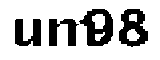8: (120, 6, 150, 48)
9: (82, 5, 114, 52)
m: (46, 17, 97, 53)
u: (10, 16, 44, 50)
